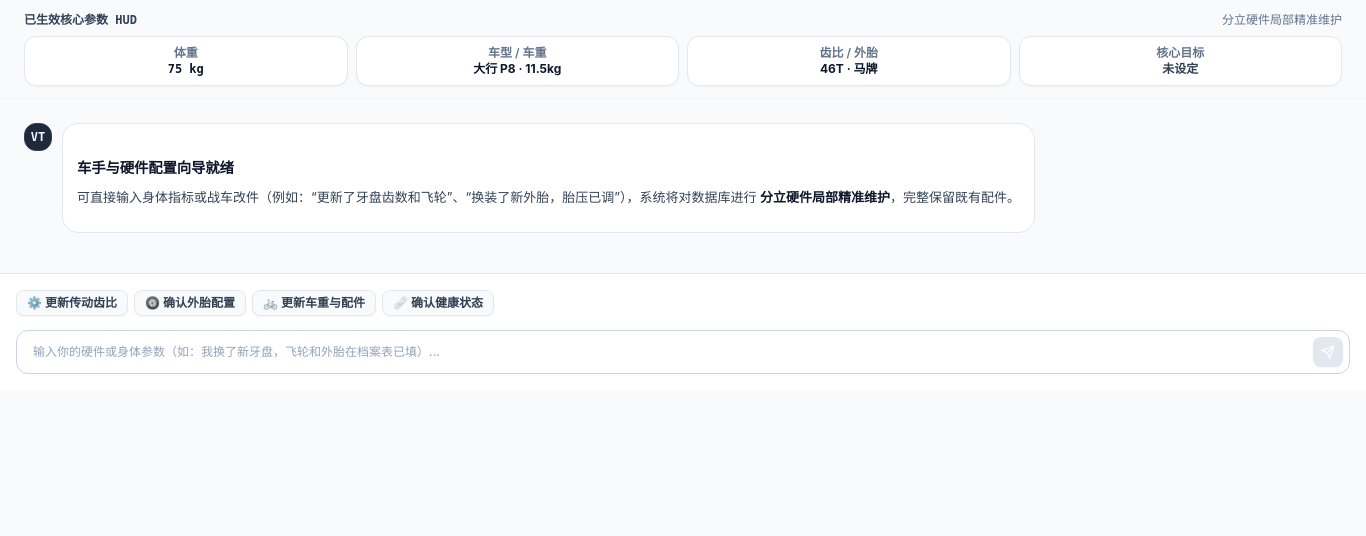
InterviewTab AI 访谈 › 点击快捷芯片直接发送对应文案
Click the button "⚙️ 更新传动齿比". click: {"x": 72, "y": 303}
box: [16,290,128,316]
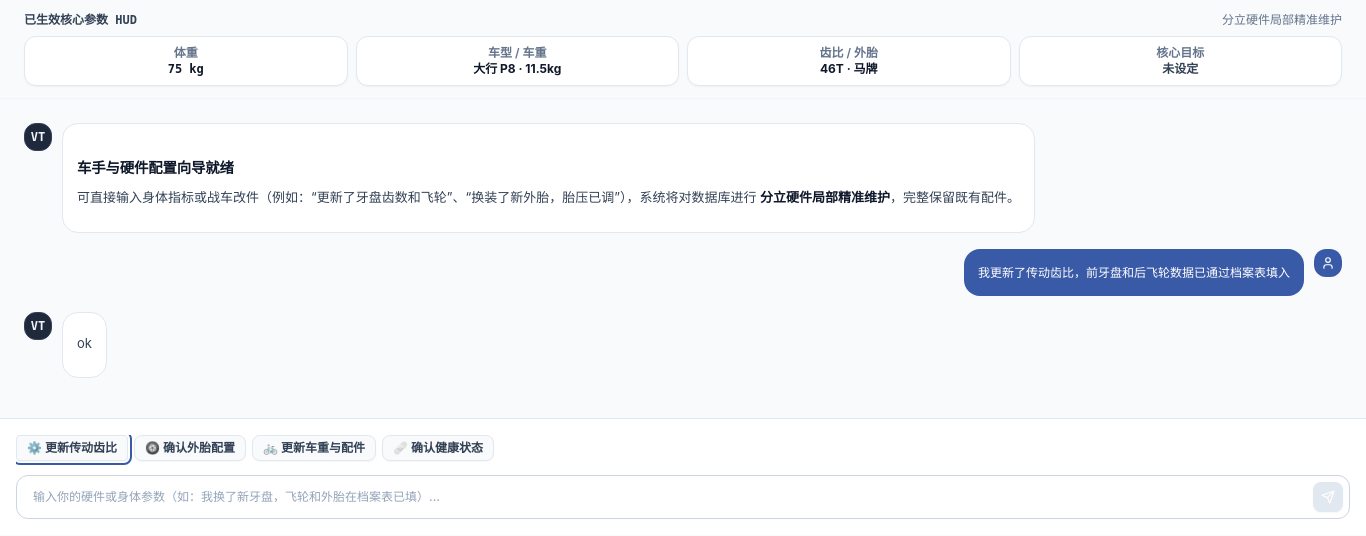
Check: the text "我更新了传动齿比，前牙盘和后飞轮数据已通过档案表填入" is shown, box [964,249,1304,296]
